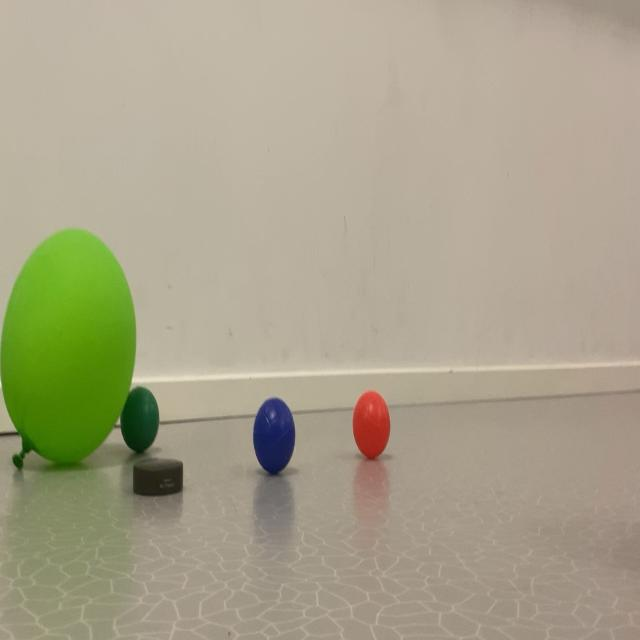blue ball: (122, 360, 409, 469)
